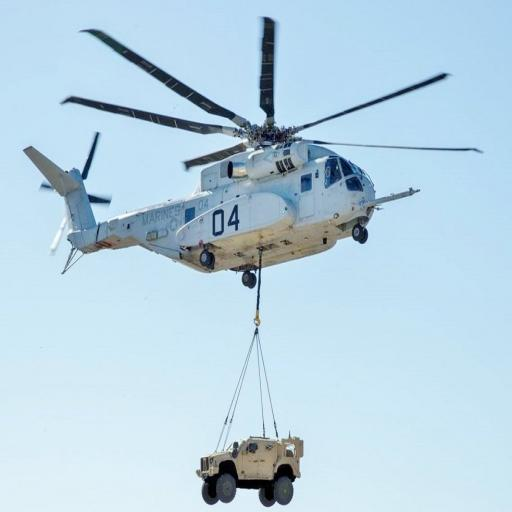helicopter: (22, 15, 488, 292)
